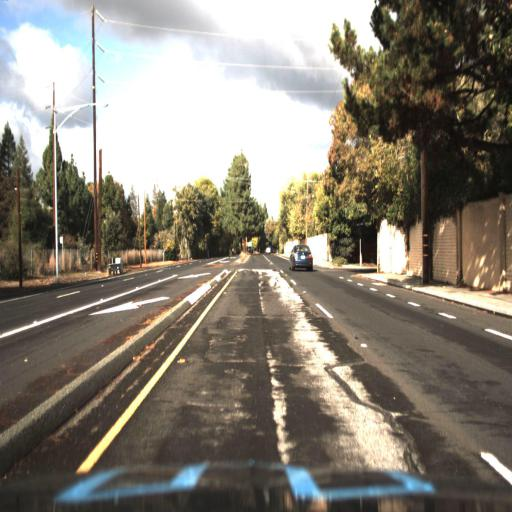car: (286, 241, 315, 275)
